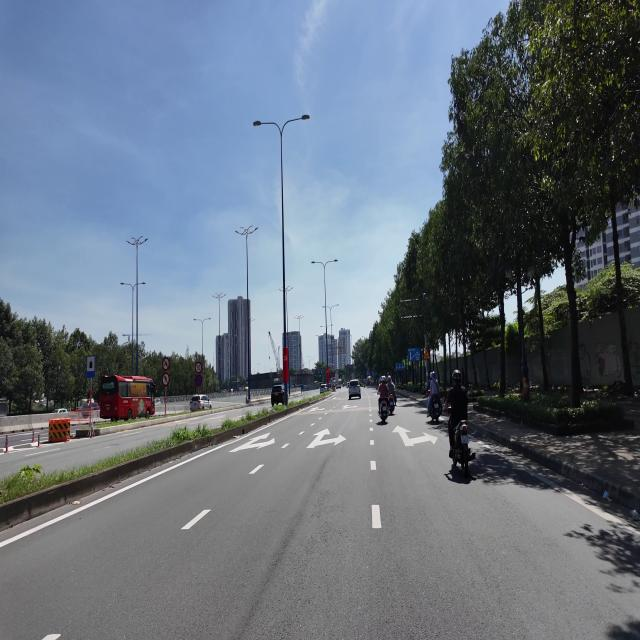car: (190, 395, 211, 411), (271, 384, 284, 406), (349, 379, 361, 399), (320, 384, 327, 394)
motorcycle: (450, 421, 475, 477), (428, 395, 442, 421), (379, 399, 388, 423), (388, 393, 395, 415)
